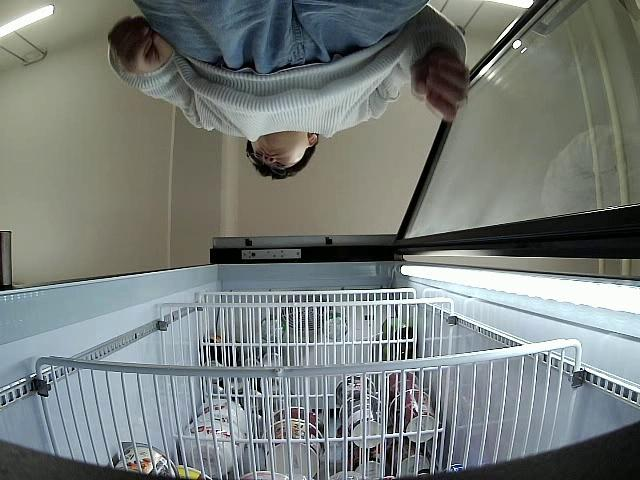00_hand: (411, 54, 471, 123), (109, 16, 176, 76)
